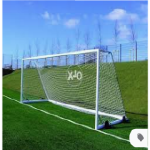goals: (20, 48, 127, 129)
